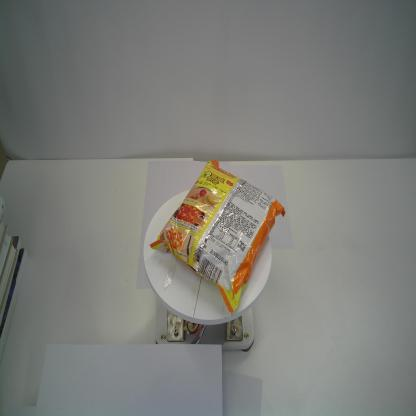Instant Noodles: (149, 158, 286, 315)
